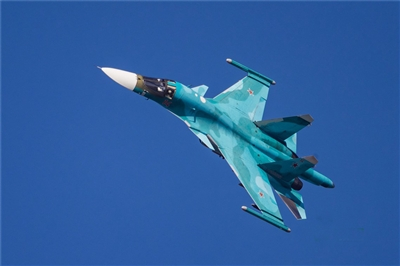airplane: (95, 53, 334, 233)
